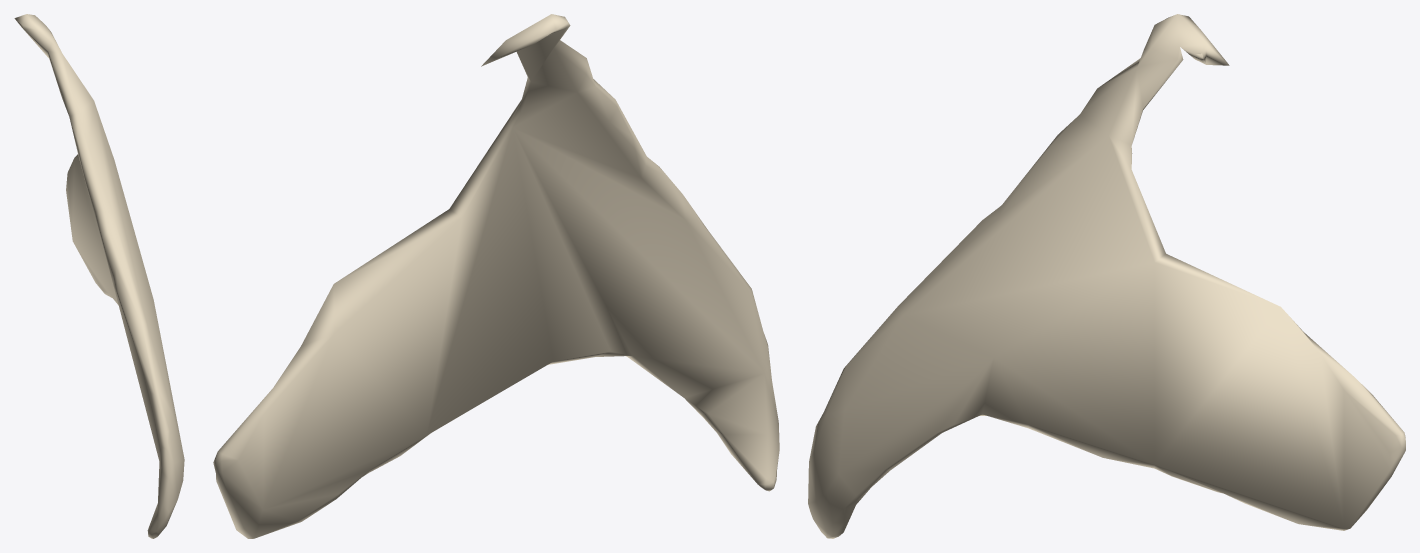
File: lateral-process-of-nasal-septal-cartilage-l.glb
3 views of the same model, side by side, from view 1: azimuth 30°, elevation 25°; view 2: azimuth 150°, elevation 25°; view 3: azimuth 270°, elevation 25° (orthographic). The views are drawn at different scales.
Parts seen in each view (by area): view 1: Lateral process of nasal septal cartilage.l; view 2: Lateral process of nasal septal cartilage.l; view 3: Lateral process of nasal septal cartilage.l.
Boxes of the visible parts, bbox=[...] form: Lateral process of nasal septal cartilage.l: bbox=[14, 14, 184, 538]; Lateral process of nasal septal cartilage.l: bbox=[213, 14, 779, 538]; Lateral process of nasal septal cartilage.l: bbox=[808, 14, 1405, 538].
Size of the model in its own units: 0.0132 by 0.033 by 0.0336.
